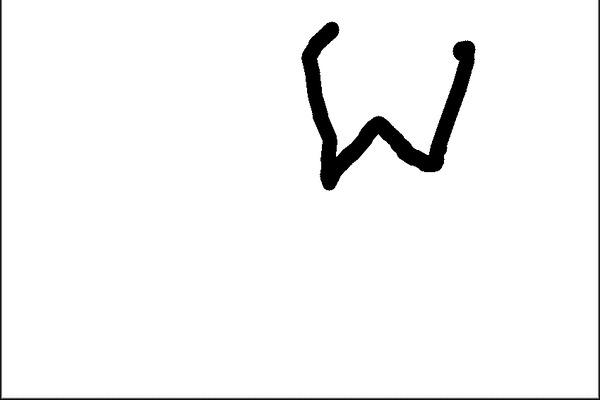w: (285, 7, 497, 207)
